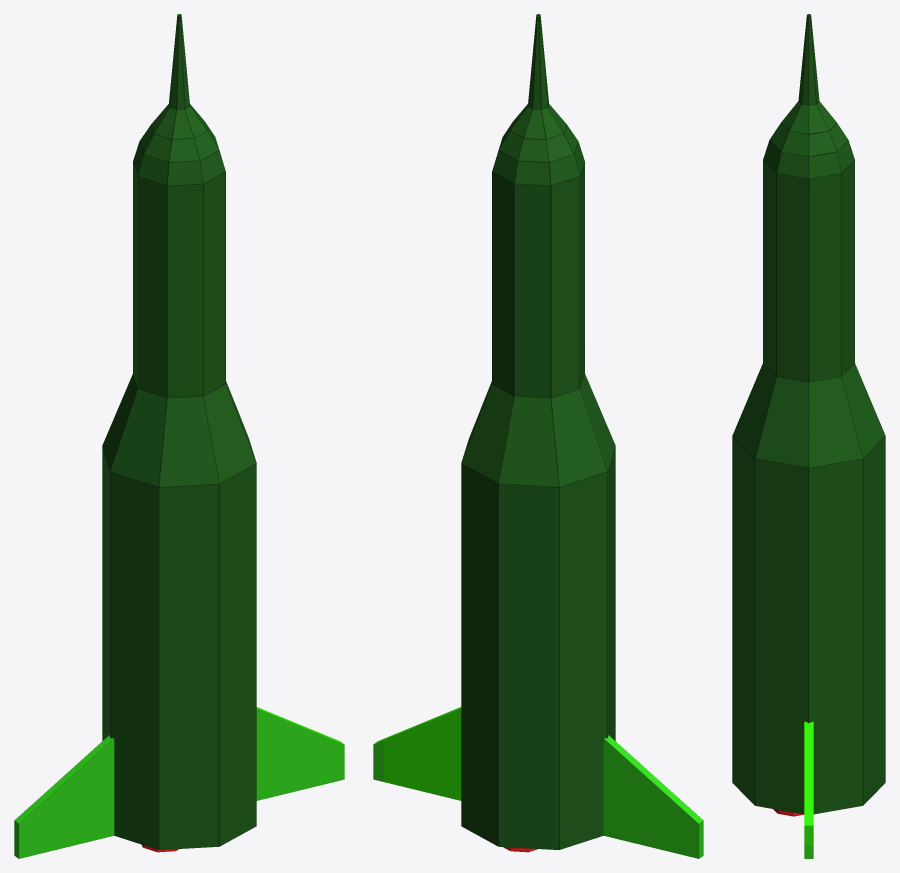
Rendered from ICBM.fbx.
3 views of the same model, side by side, from view 1: azimuth 30°, elevation 25°; view 2: azimuth 150°, elevation 25°; view 3: azimuth 270°, elevation 25° (orthographic). The views are drawn at different scales.
Parts seen in each view (by area): view 1: Rocket, LeftFin, RightFin; view 2: Rocket, LeftFin, RightFin; view 3: Rocket, RightFin.
Boxes of the visible parts, box(x1,y1,x2,y2) form: Rocket: box(102, 14, 256, 849); LeftFin: box(14, 735, 114, 858); RightFin: box(256, 707, 344, 800); Rocket: box(461, 14, 615, 849); LeftFin: box(603, 735, 703, 858); RightFin: box(373, 707, 461, 800); Rocket: box(732, 14, 885, 814); RightFin: box(804, 721, 813, 858).
Bounding box in the file's own units: 470 × 1125 × 200.
Materials: 6 (6 with a texture image).
